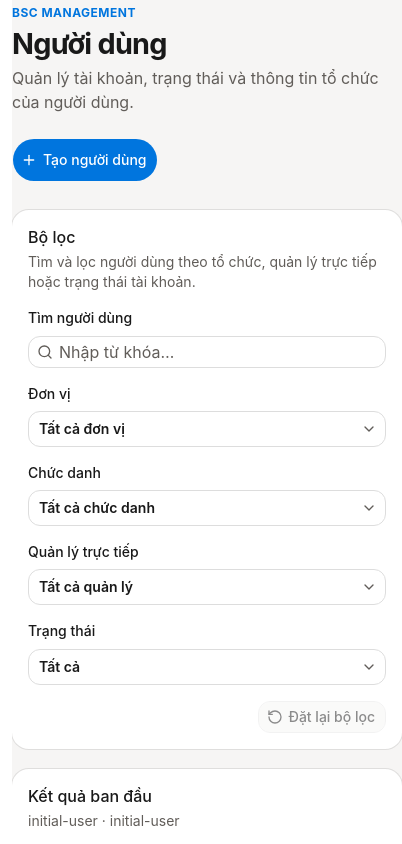
Scenario: UsersPage filters › does not let an older filter request overwrite the latest result
Check: the link "Kết quả ban đầu" is shown, box [28,786,152,806]
Click the dropdown labelled "đơn vị": [82, 428] box [28,411,386,447]
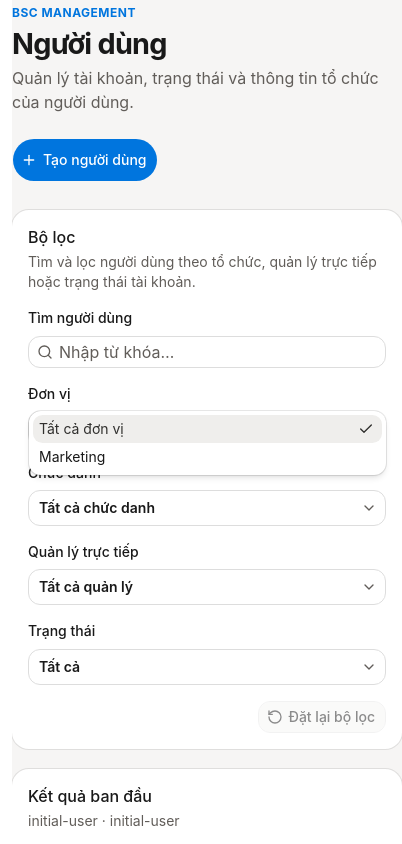
Click the option "Marketing": [72, 456] box [39,448,105,465]
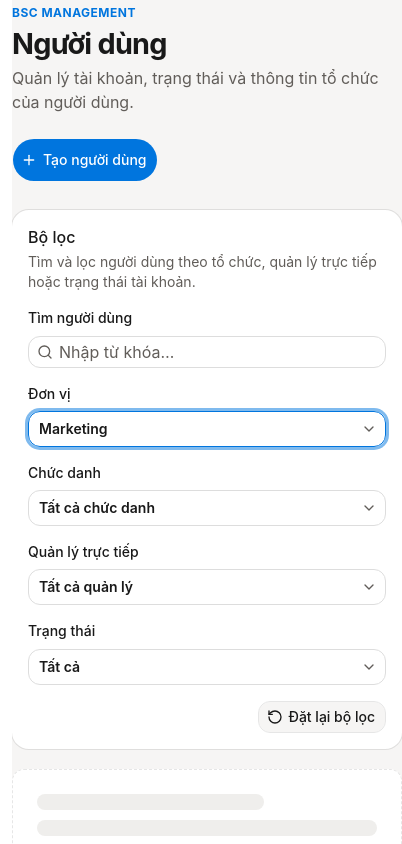
Click the dropdown labelled "chức danh": [97, 508] box [28,490,386,526]
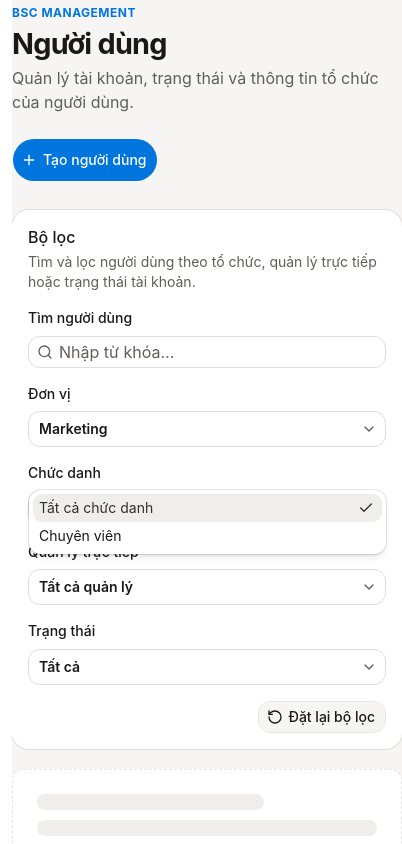
Click the option "Chuyên viên": [80, 536] box [39,527,122,544]
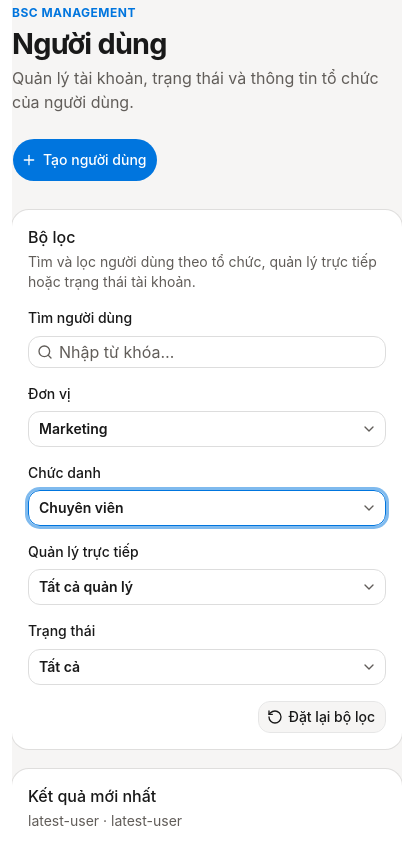
Check: the link "Kết quả mới nhất" is shown, box [28,786,156,806]
